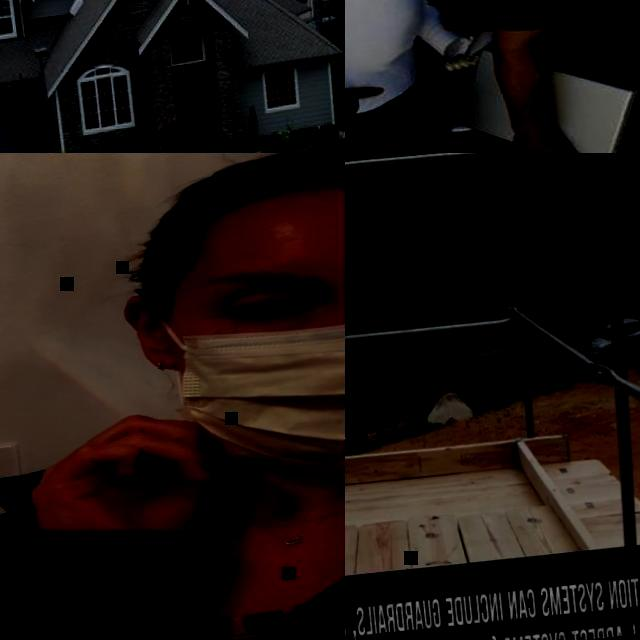mask: (165, 254, 345, 470)
no_helmet: (157, 153, 345, 251)
no_vest: (0, 437, 345, 640), (345, 0, 463, 116), (517, 0, 640, 80)
person: (0, 153, 345, 640), (465, 0, 640, 153), (345, 0, 517, 153)
vehicle: (345, 0, 640, 112), (582, 314, 640, 359)
